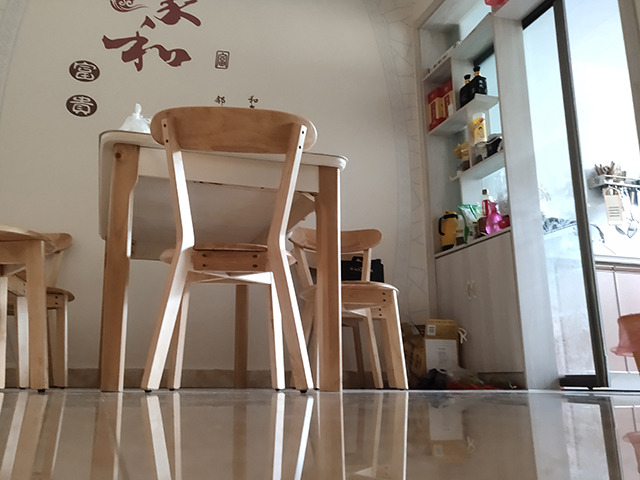cabinet: (434, 228, 532, 396), (590, 253, 640, 390)
stool: (138, 104, 319, 394), (285, 217, 407, 392), (1, 223, 76, 396)
table: (97, 128, 349, 396)
